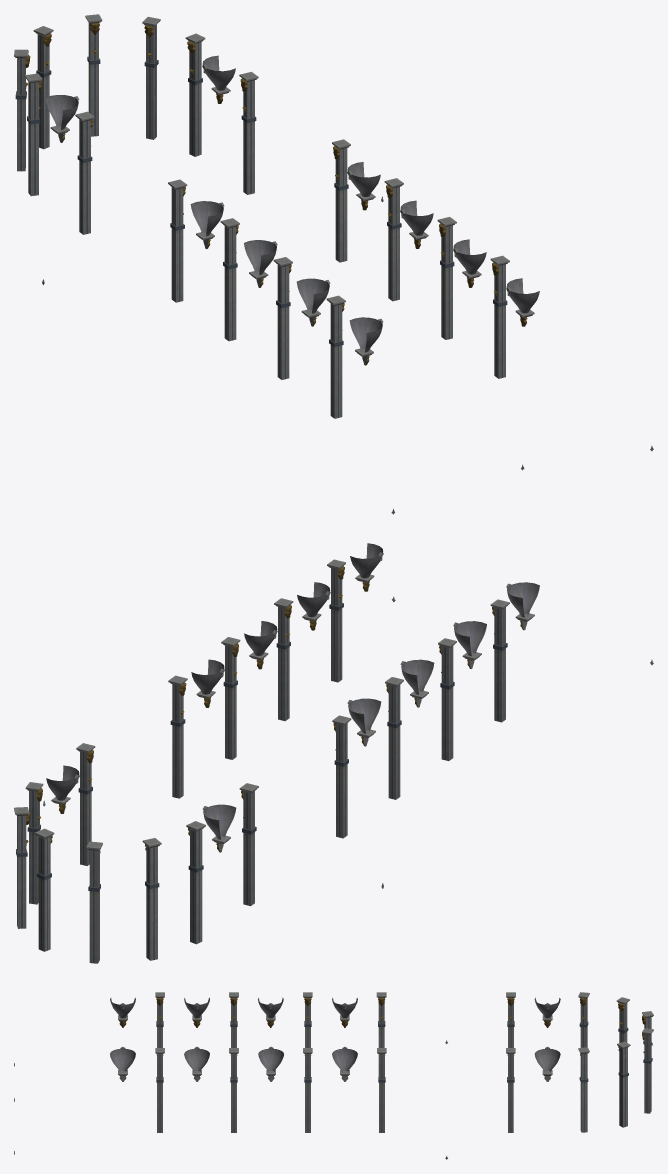
File: Indoor_MdBuild_Church01_1290_0.fbx
3 views of the same model, one above another, from view 1: azimuth 30°, elevation 25°; view 2: azimuth 150°, elevation 25°; view 3: azimuth 270°, elevation 25° (orthographic). The views are drawn at different scales.
Visible parts, largest first — view 1: Indoor_MdBuild_Church01_1290_0; view 2: Indoor_MdBuild_Church01_1290_0; view 3: Indoor_MdBuild_Church01_1290_0.
Boxes of the visible parts, <box> form: Indoor_MdBuild_Church01_1290_0: <box>14,14,653,514</box>; Indoor_MdBuild_Church01_1290_0: <box>14,543,653,963</box>; Indoor_MdBuild_Church01_1290_0: <box>14,992,653,1159</box>.
Bounding box in the file's own units: 29.61 × 10.58 × 69.2.
